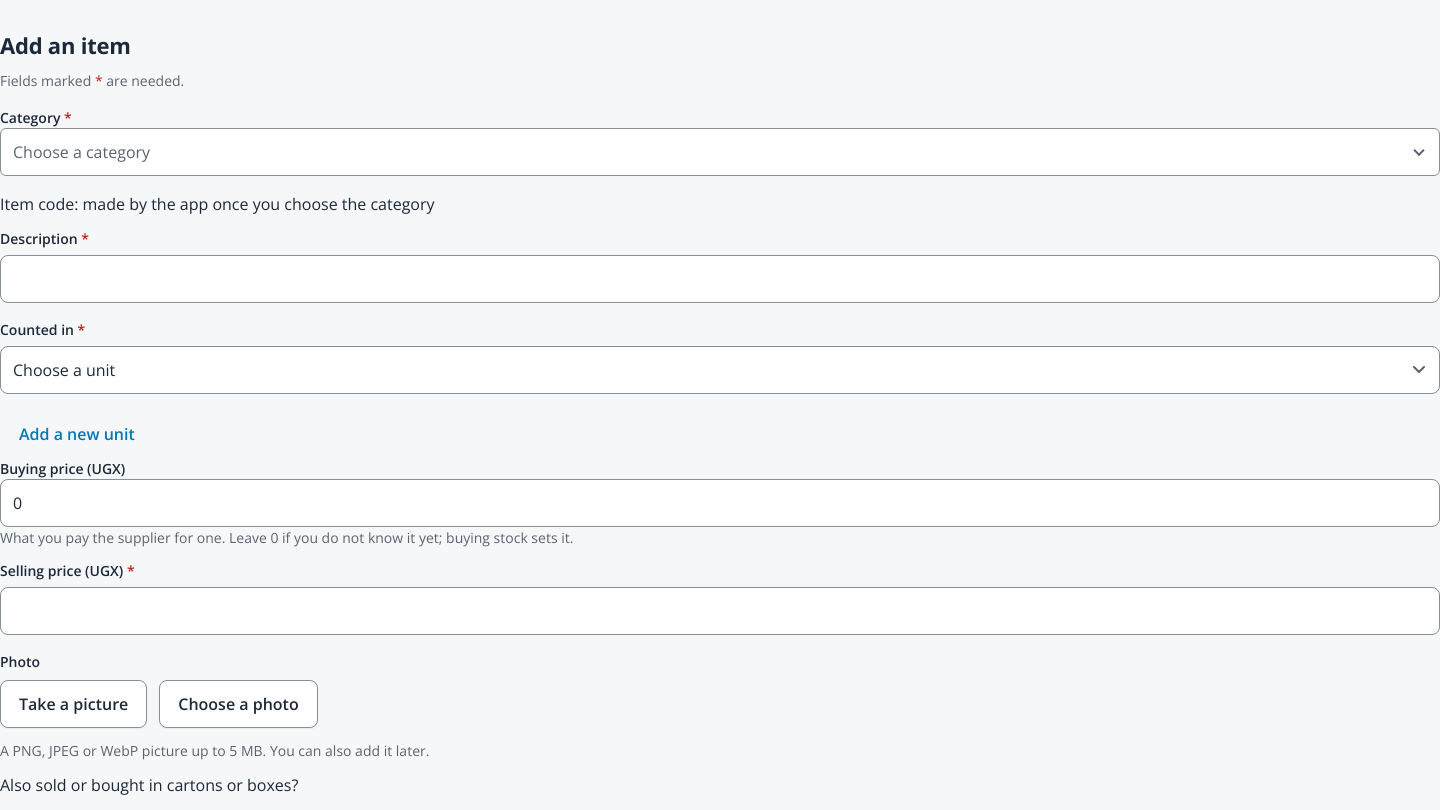
Test: the item form outside a category › adds a category inline from Add an item: the field names it and the code line gives its first code (#578)
The width and height of the screenshot is (1440, 810).
Click the dropdown labelled "Choose a category" at {"x": 82, "y": 152}, box [0,128,1439,176]
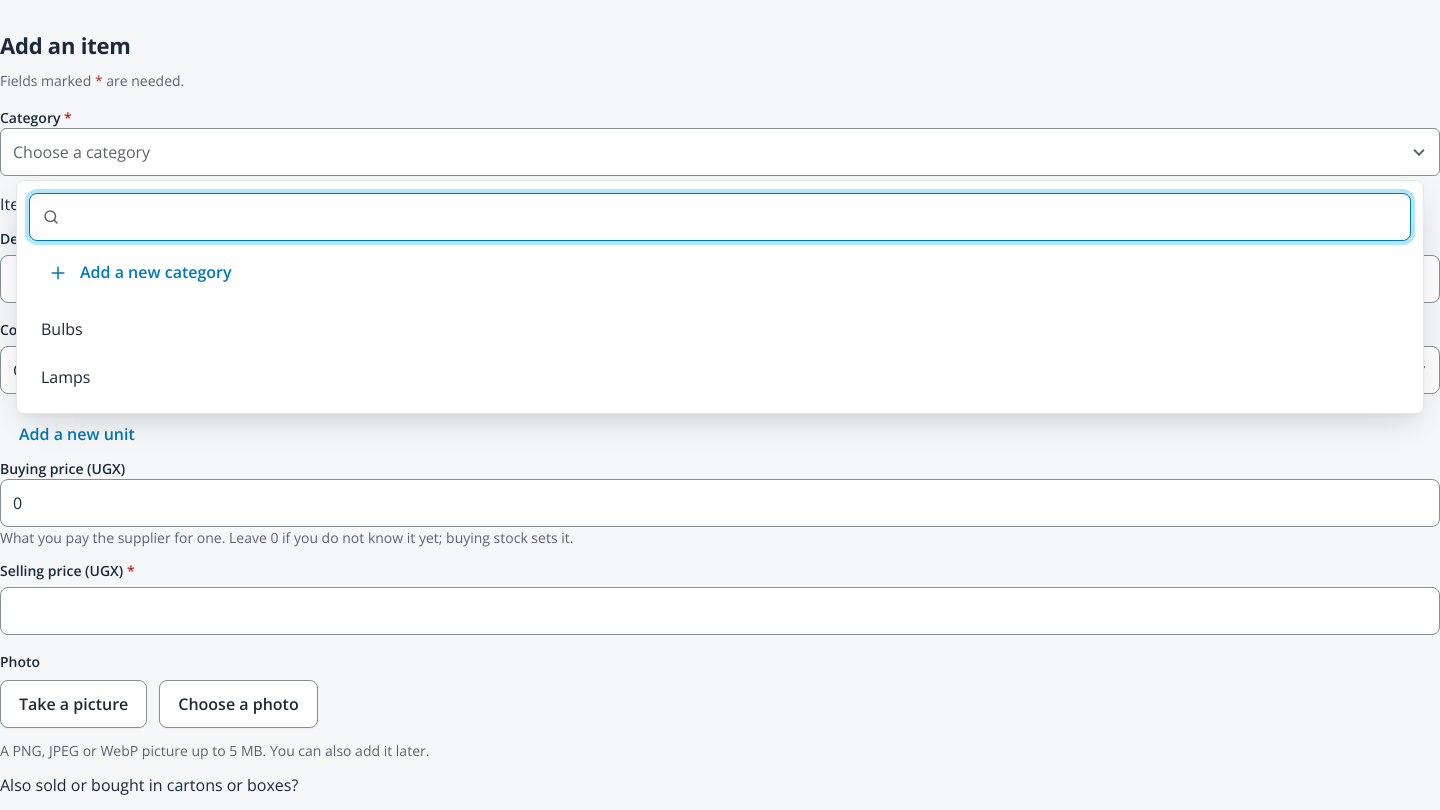
Type "Rice" into the dropdown named "Search categories" at {"x": 720, "y": 217}, box [29,193,1411,241]
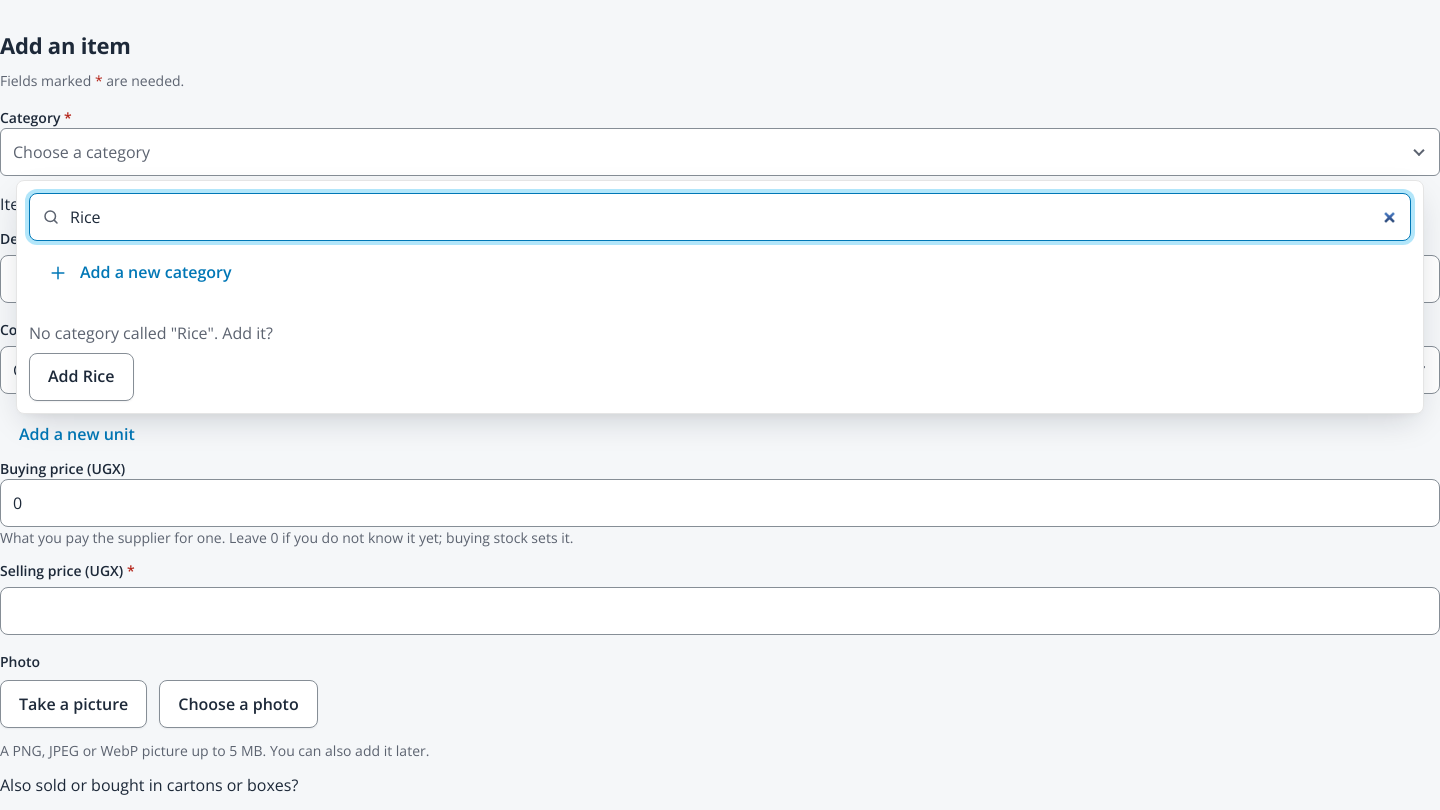
Click the button "Add Rice" at {"x": 81, "y": 377}, box [29,353,134,401]
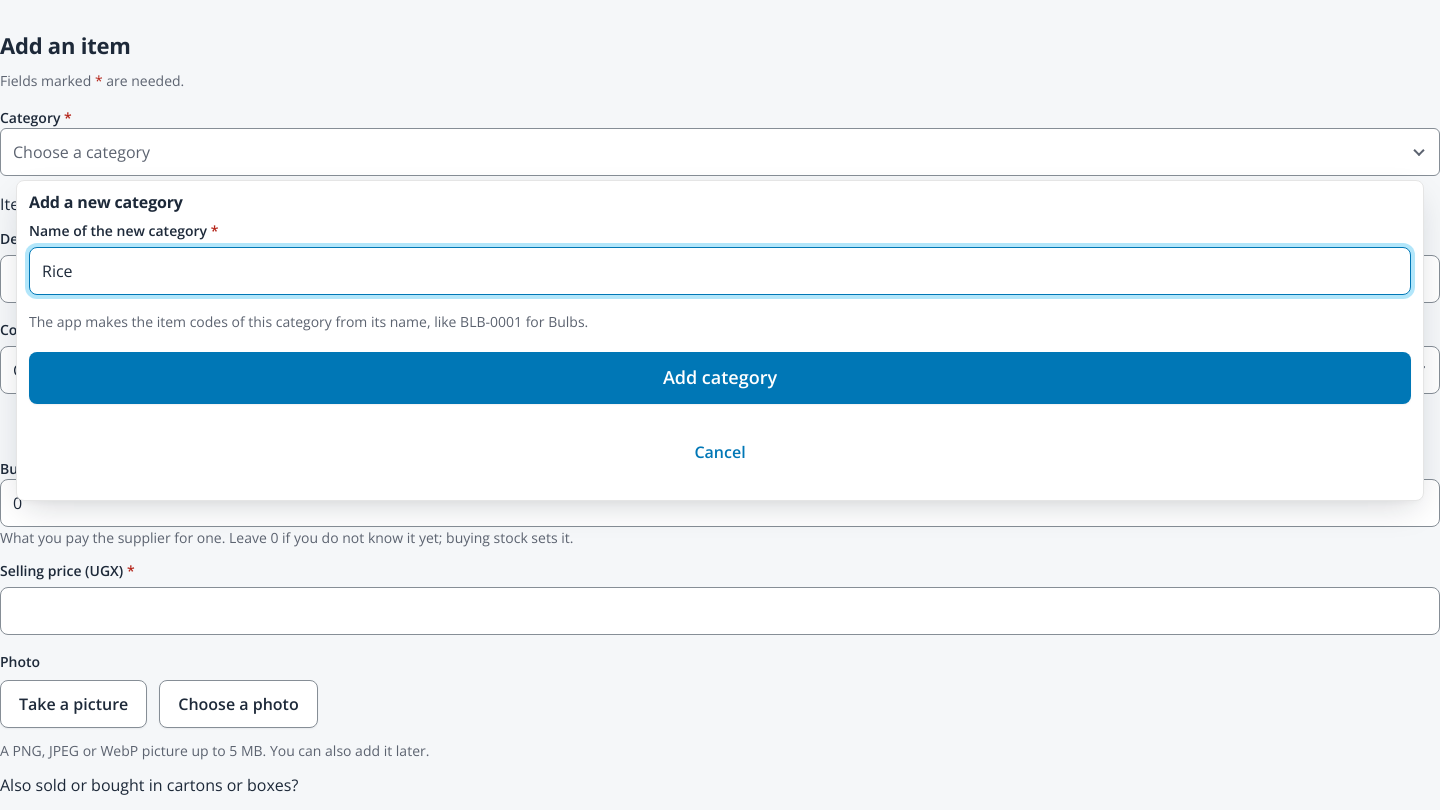
Click the button "Add category" at {"x": 720, "y": 378}, box [29,352,1411,404]
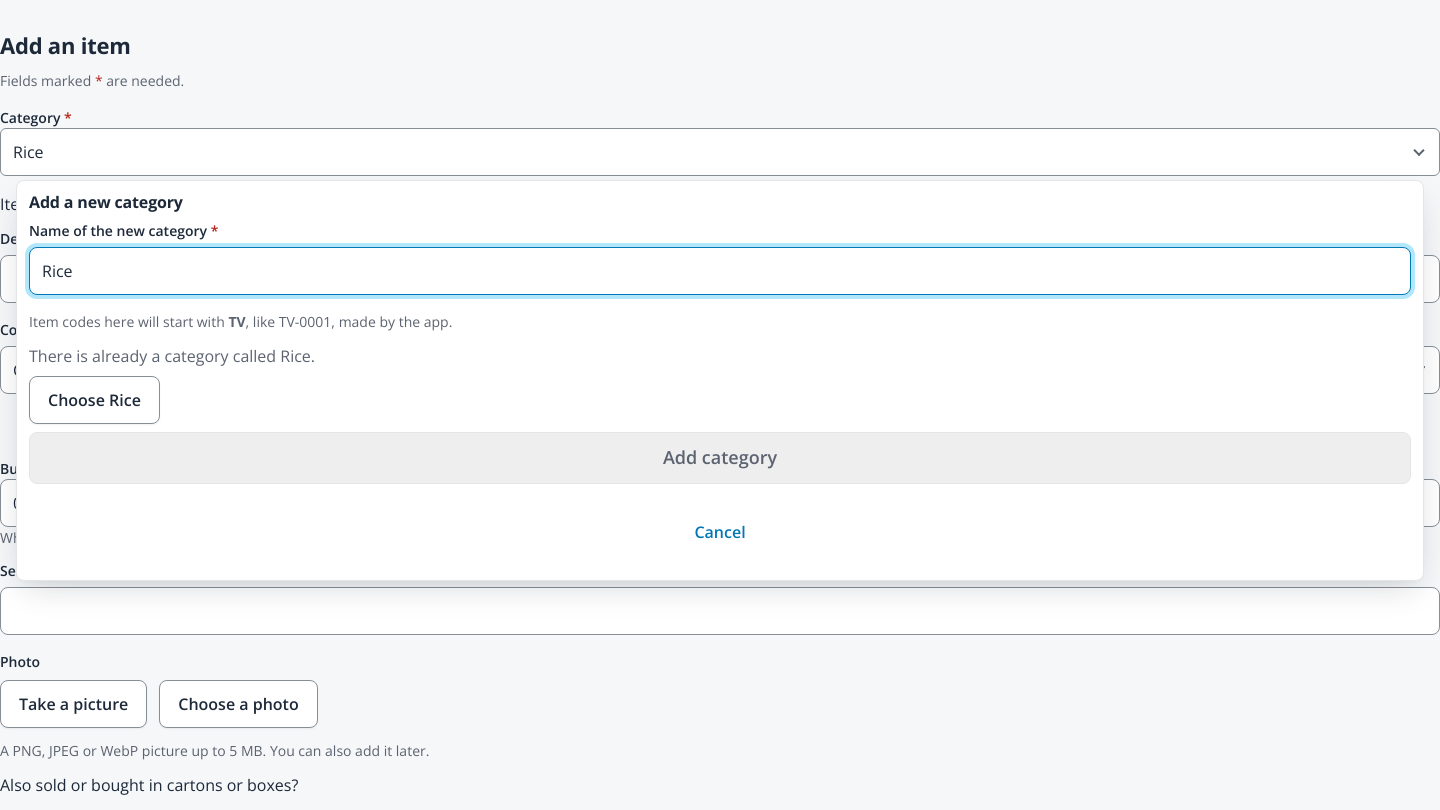
Check: the element with test id "item-code" reads "Item code: RCE-0001, made by the app", box [0,193,288,215]
Check: the dropdown named "Category" reads "Rice", box [0,128,1439,176]
